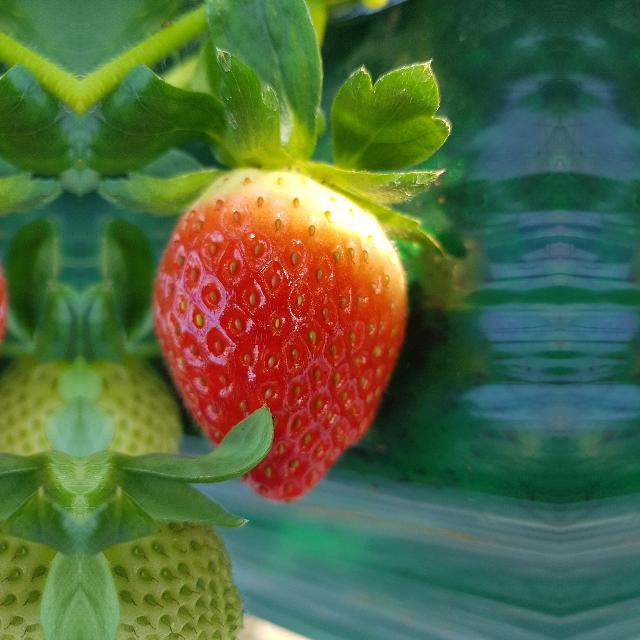Health_100: (150, 166, 408, 504)
